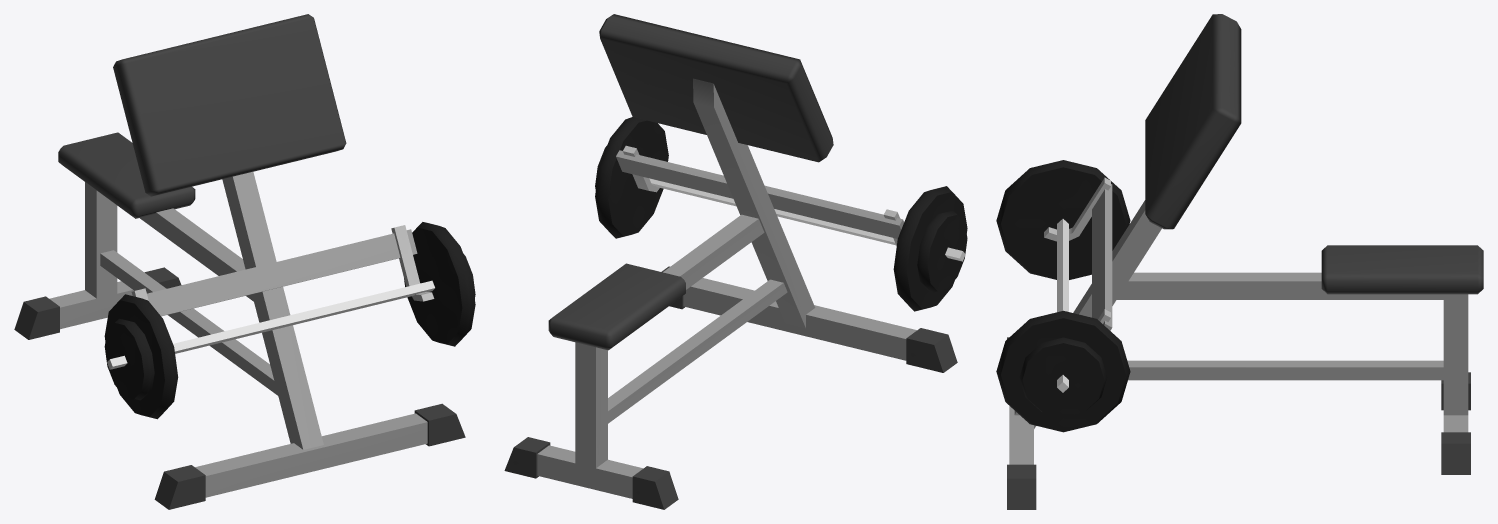
File: Ejercicio.obj
3 renders of one model, left to right at view 1: azimuth 30°, elevation 25°; view 2: azimuth 150°, elevation 25°; view 3: azimuth 270°, elevation 25°, orthographic. The views are drawn at different scales.
Visible parts, largest first — view 1: training_item_001; view 2: training_item_001; view 3: training_item_001.
Boxes of the visible parts, <box> form: training_item_001: <box>14,14,475,509</box>; training_item_001: <box>504,14,967,509</box>; training_item_001: <box>996,14,1483,509</box>.
Size of the model in its own units: 7 by 6.68 by 7.88.
Materials: 1 (1 with a texture image).
